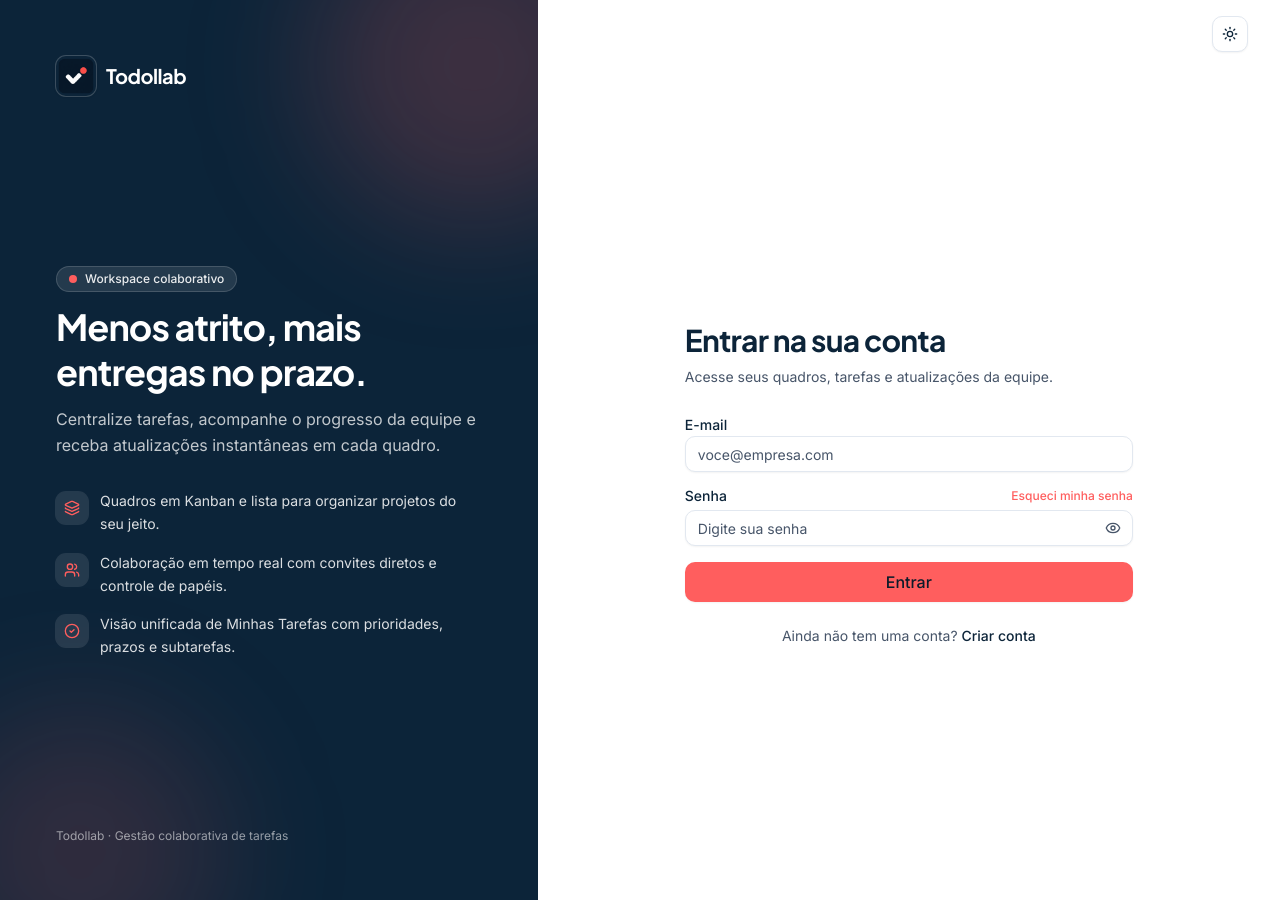
it: AuthPages › loginWithUnverifiedEmailRedirectsToVerifyEmail
Step 1. Type "ana@example.com" into the field labelled "E-mail" → [909, 454], box [685,436,1133,472]
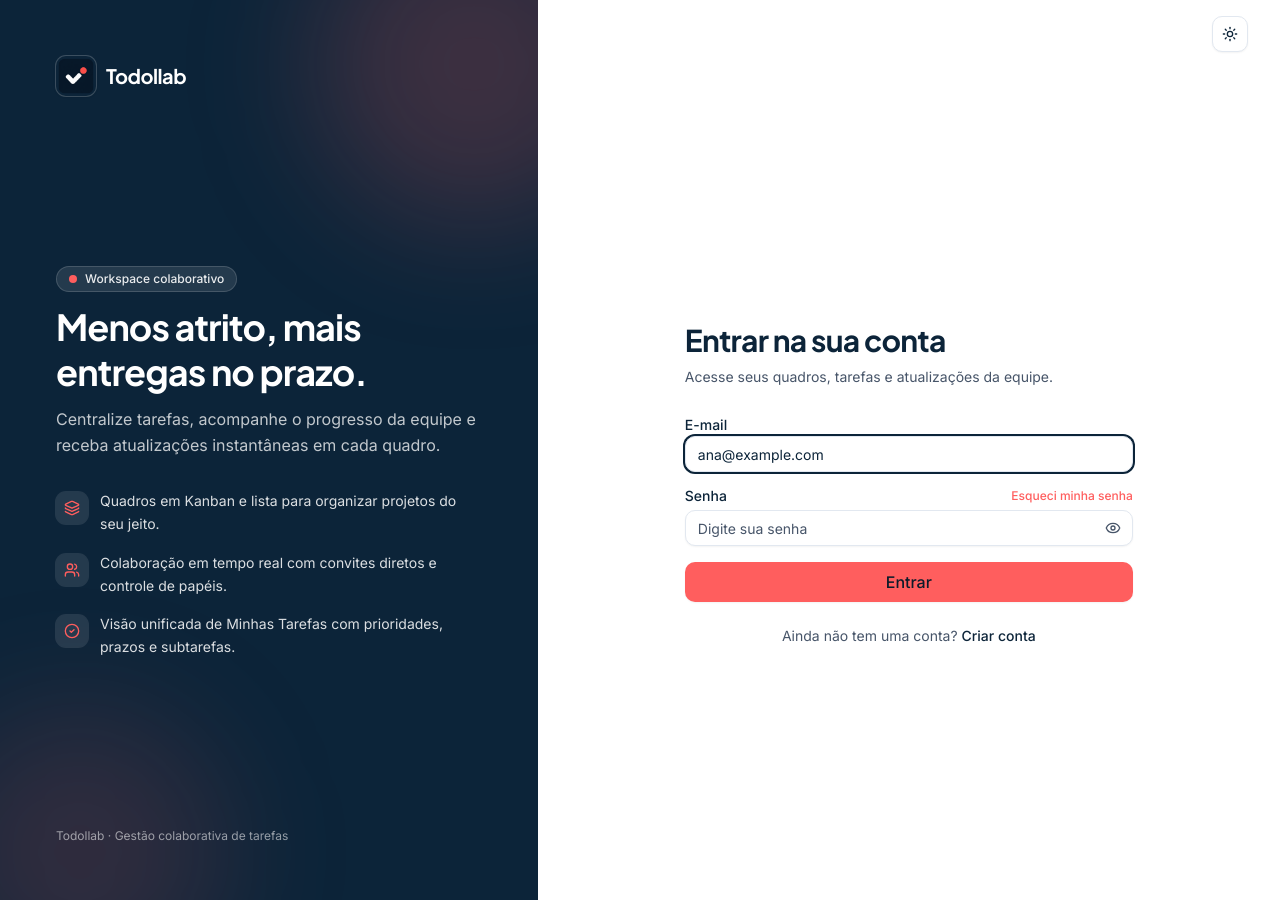
Step 2. Type "Password123!" into the password field labelled "Senha" → [909, 528], box [685,510,1133,546]
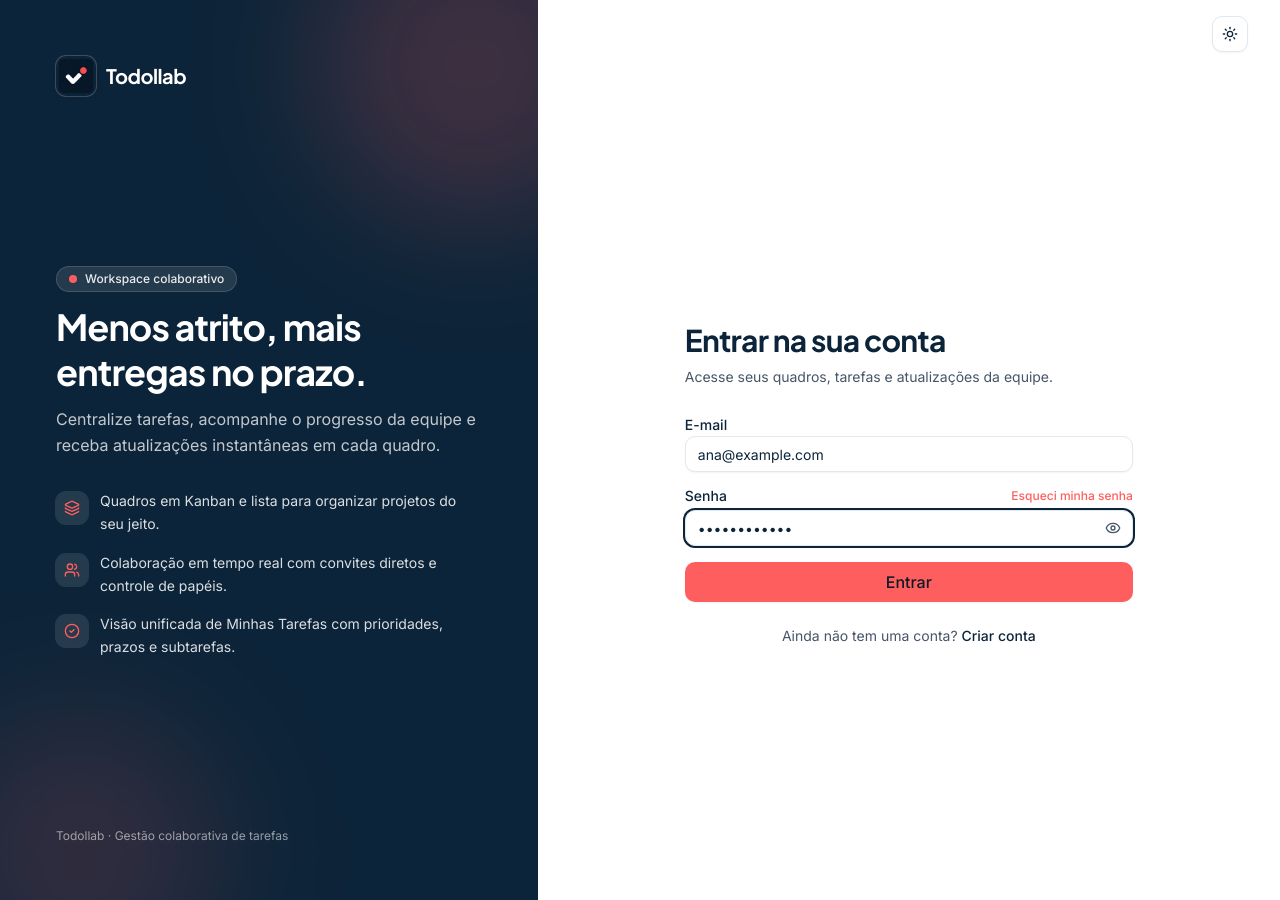
Step 3. Click the button "Entrar" → [909, 582], box [685,562,1133,602]
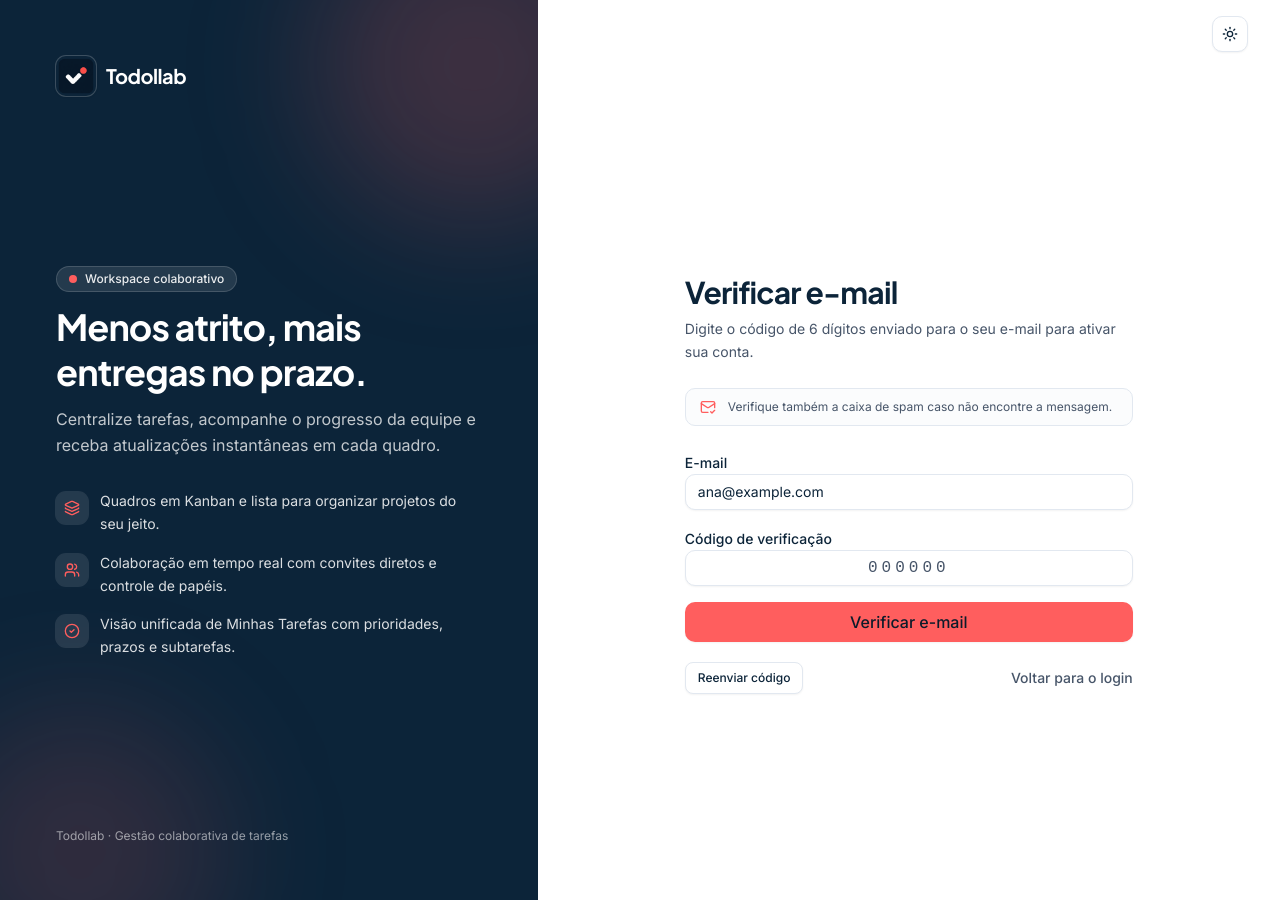
Now the field labelled "E-mail" holds "ana@example.com", box [685,474,1133,510]
